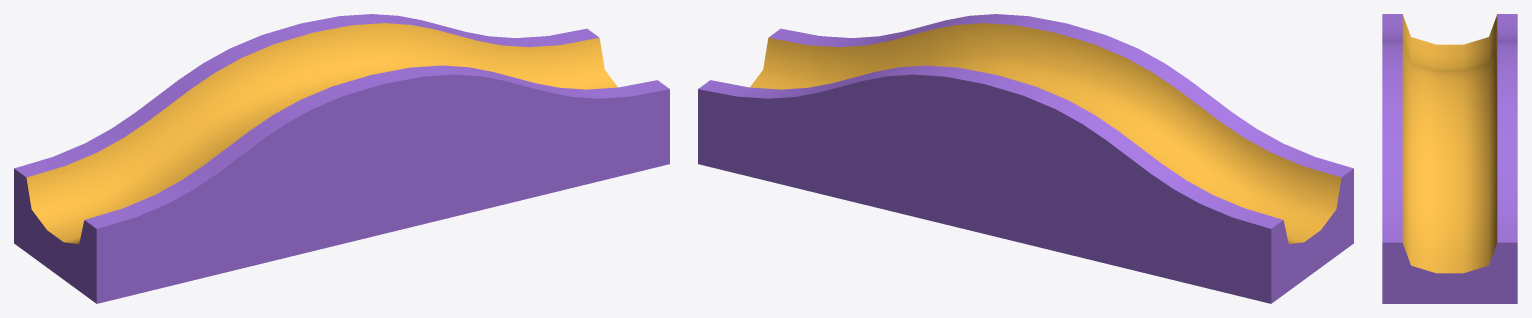
The model's file is bump-solid-b-col.glb.
The picture shows the model from 3 angles, left to right: view 1: azimuth 30°, elevation 25°; view 2: azimuth 150°, elevation 25°; view 3: azimuth 270°, elevation 25°; orthographic projection. The views are drawn at different scales.
Visible parts, largest first — view 1: bump-solid-b-col; view 2: bump-solid-b-col; view 3: bump-solid-b-col.
Part boxes in pixels (x1,y1,x2,y2): bump-solid-b-col: (14, 14, 669, 303); bump-solid-b-col: (698, 14, 1353, 303); bump-solid-b-col: (1382, 14, 1517, 303).
Bounding box in the file's own units: 4 × 1 × 1.
Materials: 1 (1 with a texture image).
